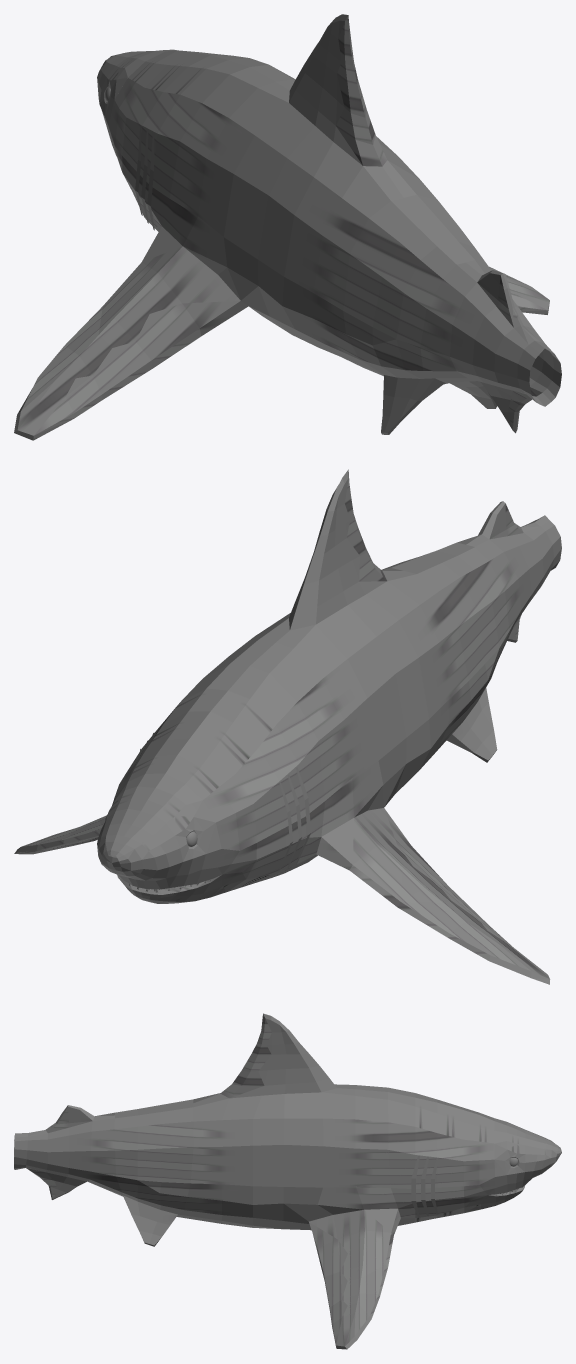
File: HiddenNewParts.obj
3 views of the same model, one above another, from view 1: azimuth 30°, elevation 25°; view 2: azimuth 150°, elevation 25°; view 3: azimuth 270°, elevation 25° (orthographic). The views are drawn at different scales.
Visible parts, largest first — view 1: New006p0271, New006p0211, New006p0181, New006p0251, New006p0241, New006p0201, New006p0191, New006p0281; view 2: New006p0271, New006p0211, New006p0181, New006p0201, New006p0241, New006p0191, New006p0251, New006p0261, New006p0281; view 3: New006p0271, New006p0211, New006p0181, New006p0201, New006p0241, New006p0251, New006p0191, New006p0281, New006p0261.
Part boxes in pixels (x1,y1,x2,y2): New006p0271: (97,49,561,381); New006p0211: (102,111,561,406); New006p0181: (14,226,549,440); New006p0251: (33,291,547,440); New006p0241: (336,15,542,433); New006p0201: (289,14,362,165); New006p0191: (381,375,512,434); New006p0281: (135,126,154,230); New006p0271: (97,501,561,871); New006p0211: (99,548,561,903); New006p0181: (14,808,550,984); New006p0201: (289,469,386,630); New006p0241: (345,472,523,729); New006p0191: (446,626,517,762); New006p0251: (384,808,540,968); New006p0261: (104,783,215,861); New006p0281: (140,732,311,871); New006p0271: (14,1084,561,1188); New006p0211: (14,1147,555,1230); New006p0181: (309,1208,400,1349); New006p0201: (230,1013,336,1098); New006p0241: (26,1014,271,1230); New006p0251: (309,1222,347,1347); New006p0191: (46,1172,177,1246); New006p0281: (411,1156,438,1217); New006p0261: (494,1144,525,1174).
Size of the model in its own units: 6.01 by 4.35 by 8.43.
2 materials, 2 textured.
